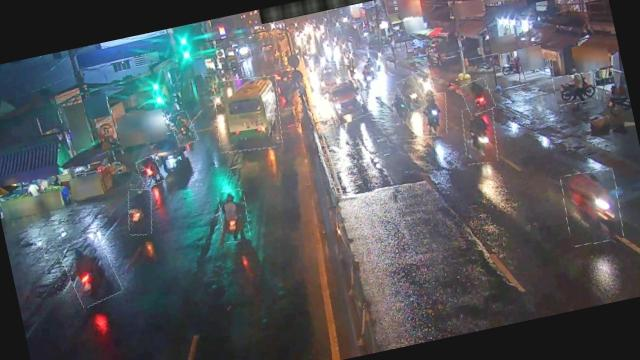Bike: (557, 166, 626, 248), (58, 232, 120, 308), (458, 104, 502, 166), (215, 188, 252, 244), (123, 187, 158, 238), (552, 71, 599, 108), (417, 89, 452, 138), (460, 77, 496, 116), (396, 74, 426, 114), (169, 109, 197, 146), (136, 154, 165, 187), (468, 53, 501, 77), (392, 94, 414, 124), (416, 68, 436, 98), (358, 62, 377, 90)
Bus: (209, 70, 288, 156)
Car: (323, 78, 370, 126)
